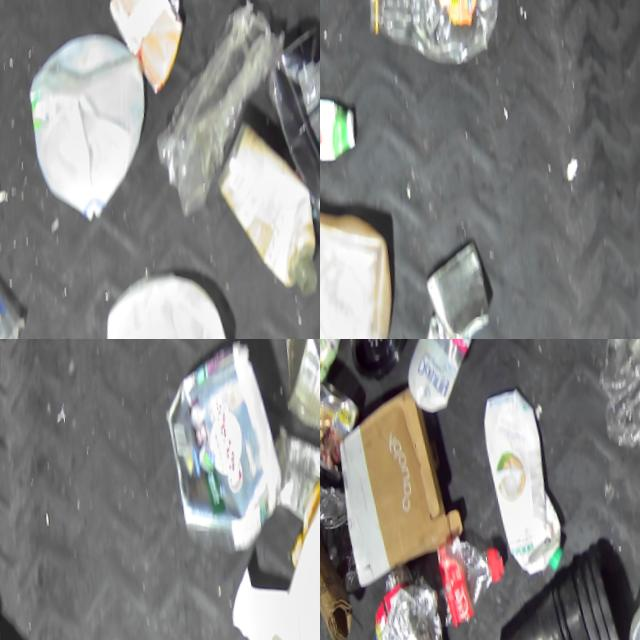can: (423, 242, 501, 339), (320, 472, 373, 601), (320, 372, 373, 489), (270, 339, 320, 457), (425, 310, 483, 339)
milk_jug: (320, 196, 415, 339), (90, 264, 252, 339)
plastic_bottle: (358, 0, 513, 86), (435, 529, 519, 632)
